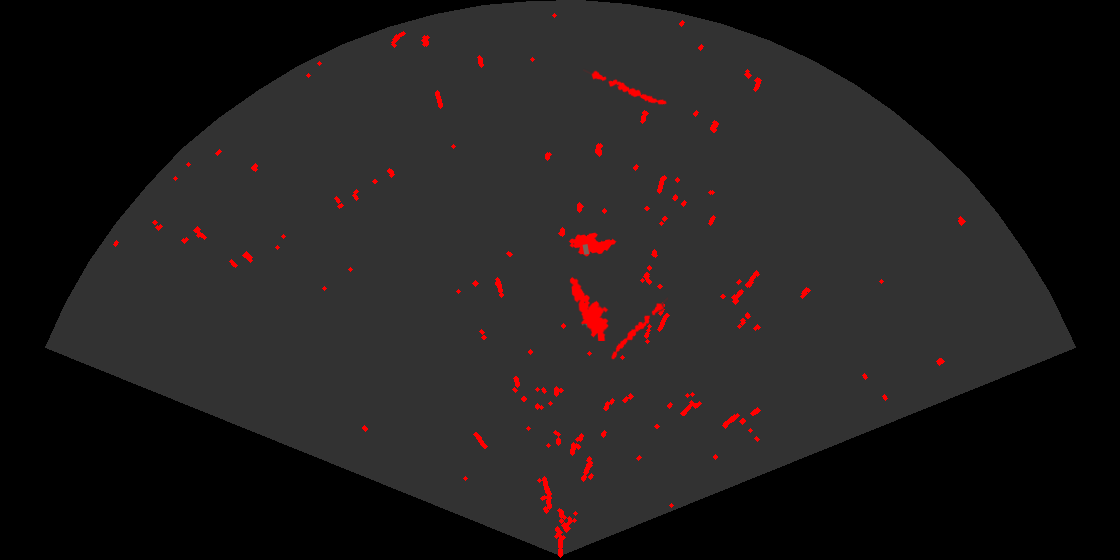AUV: (567, 231, 618, 258)
chain: (609, 296, 668, 361), (583, 68, 669, 106)
frogman: (568, 275, 610, 341)
